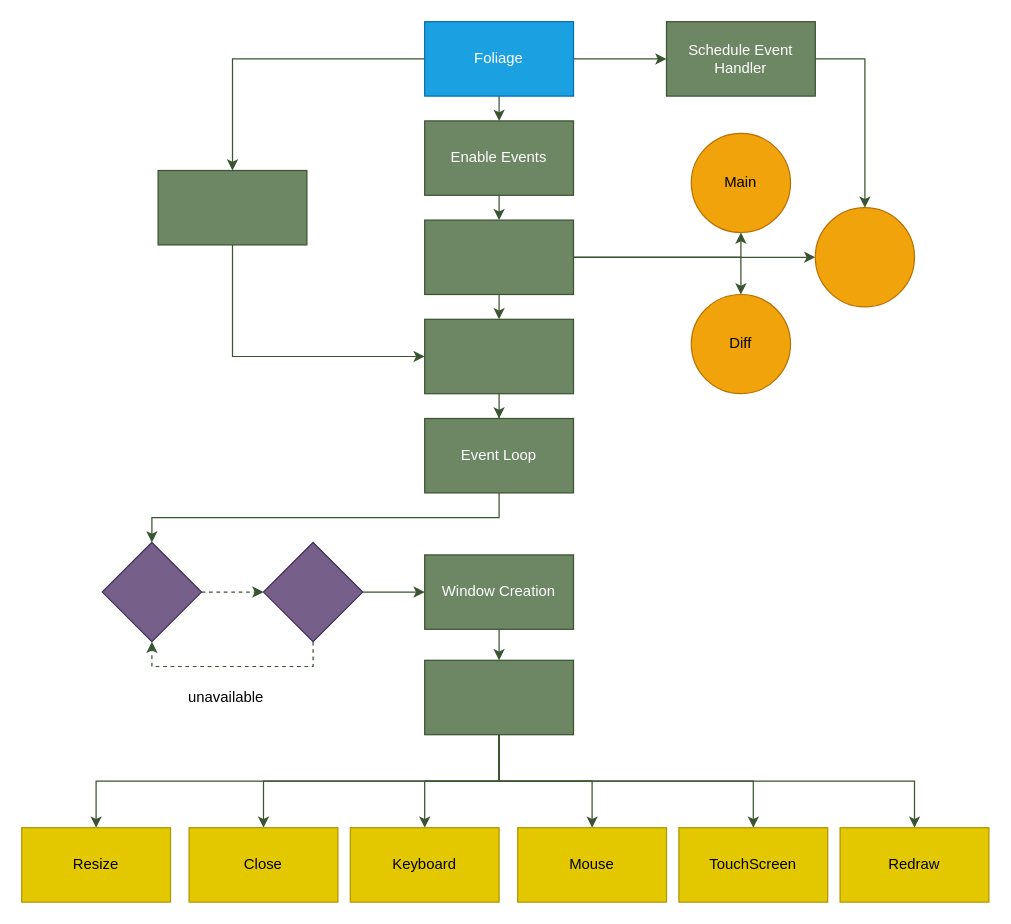
Image size: 1011x924. Some labels were removed from this diagram. Each missing label, with the centre of its shape:
Configure Schedule: the point at 498,256
Define Attachments: the point at 232,207
Poll GPU: the point at 312,591
Process Event: the point at 498,697
Queue Events: the point at 151,591
User: the point at 864,256
User Attachments: the point at 498,356
